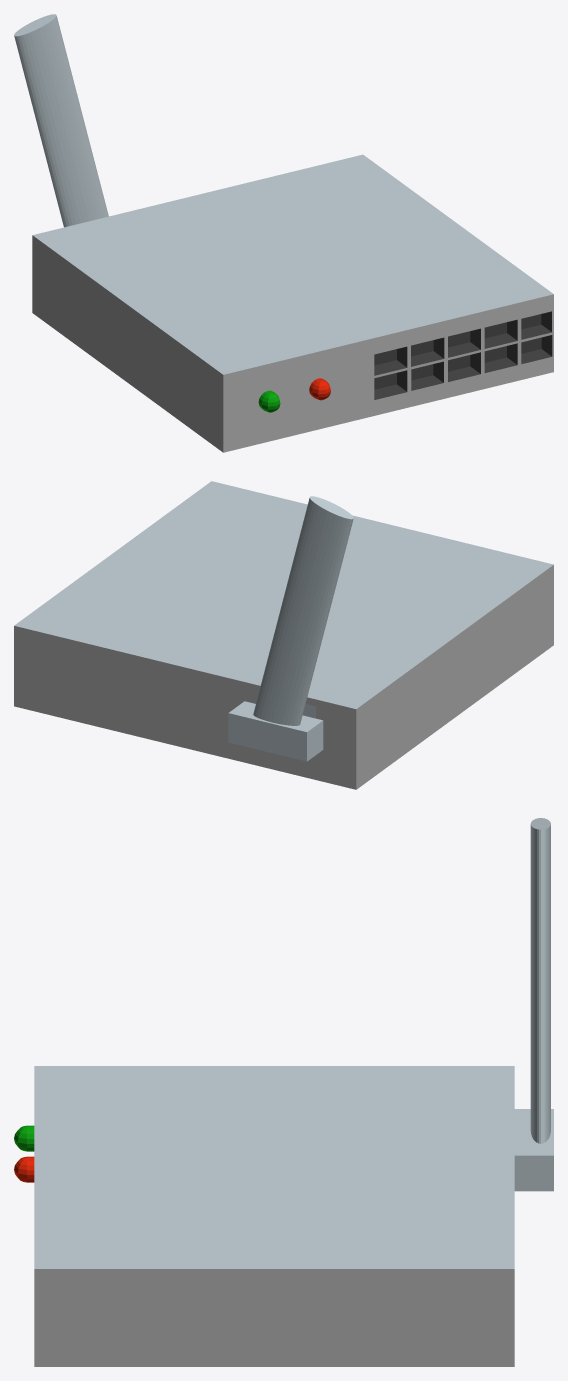
The model's file is (YnZp)ModenLowPolly.fbx.
3 views of the same model, one above another, from view 1: azimuth 30°, elevation 25°; view 2: azimuth 150°, elevation 25°; view 3: azimuth 270°, elevation 25° (orthographic). The views are drawn at different scales.
Parts seen in each view (by area): view 1: Cube; view 2: Cube; view 3: Cube.
Part boxes in pixels (left/top/right/bottom): Cube: left=14, top=14, right=553, bottom=452; Cube: left=14, top=481, right=553, bottom=789; Cube: left=14, top=818, right=553, bottom=1366.
Bounding box in the file's own units: 430 × 472 × 343.
